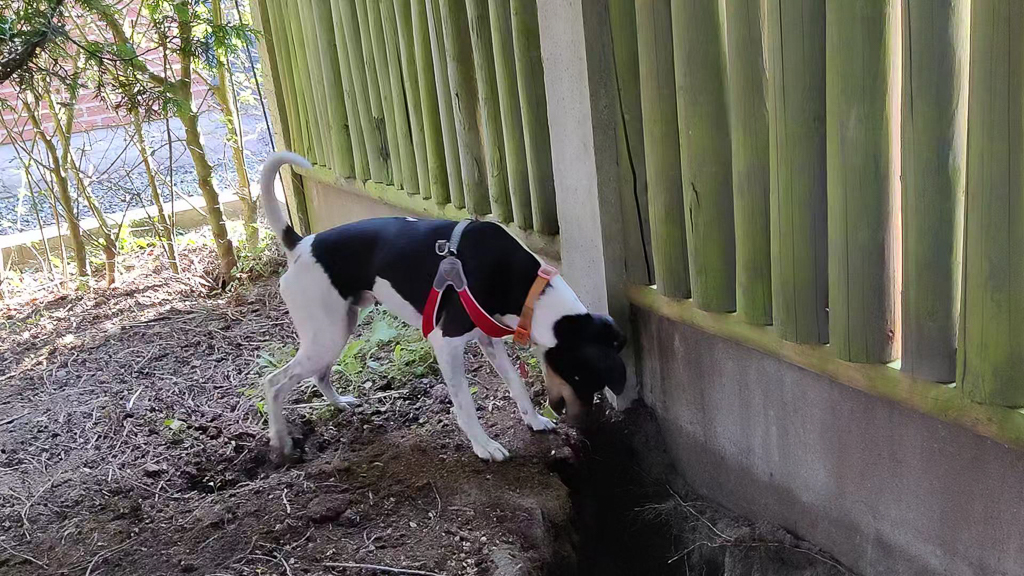Dog: (243, 142, 647, 483)
